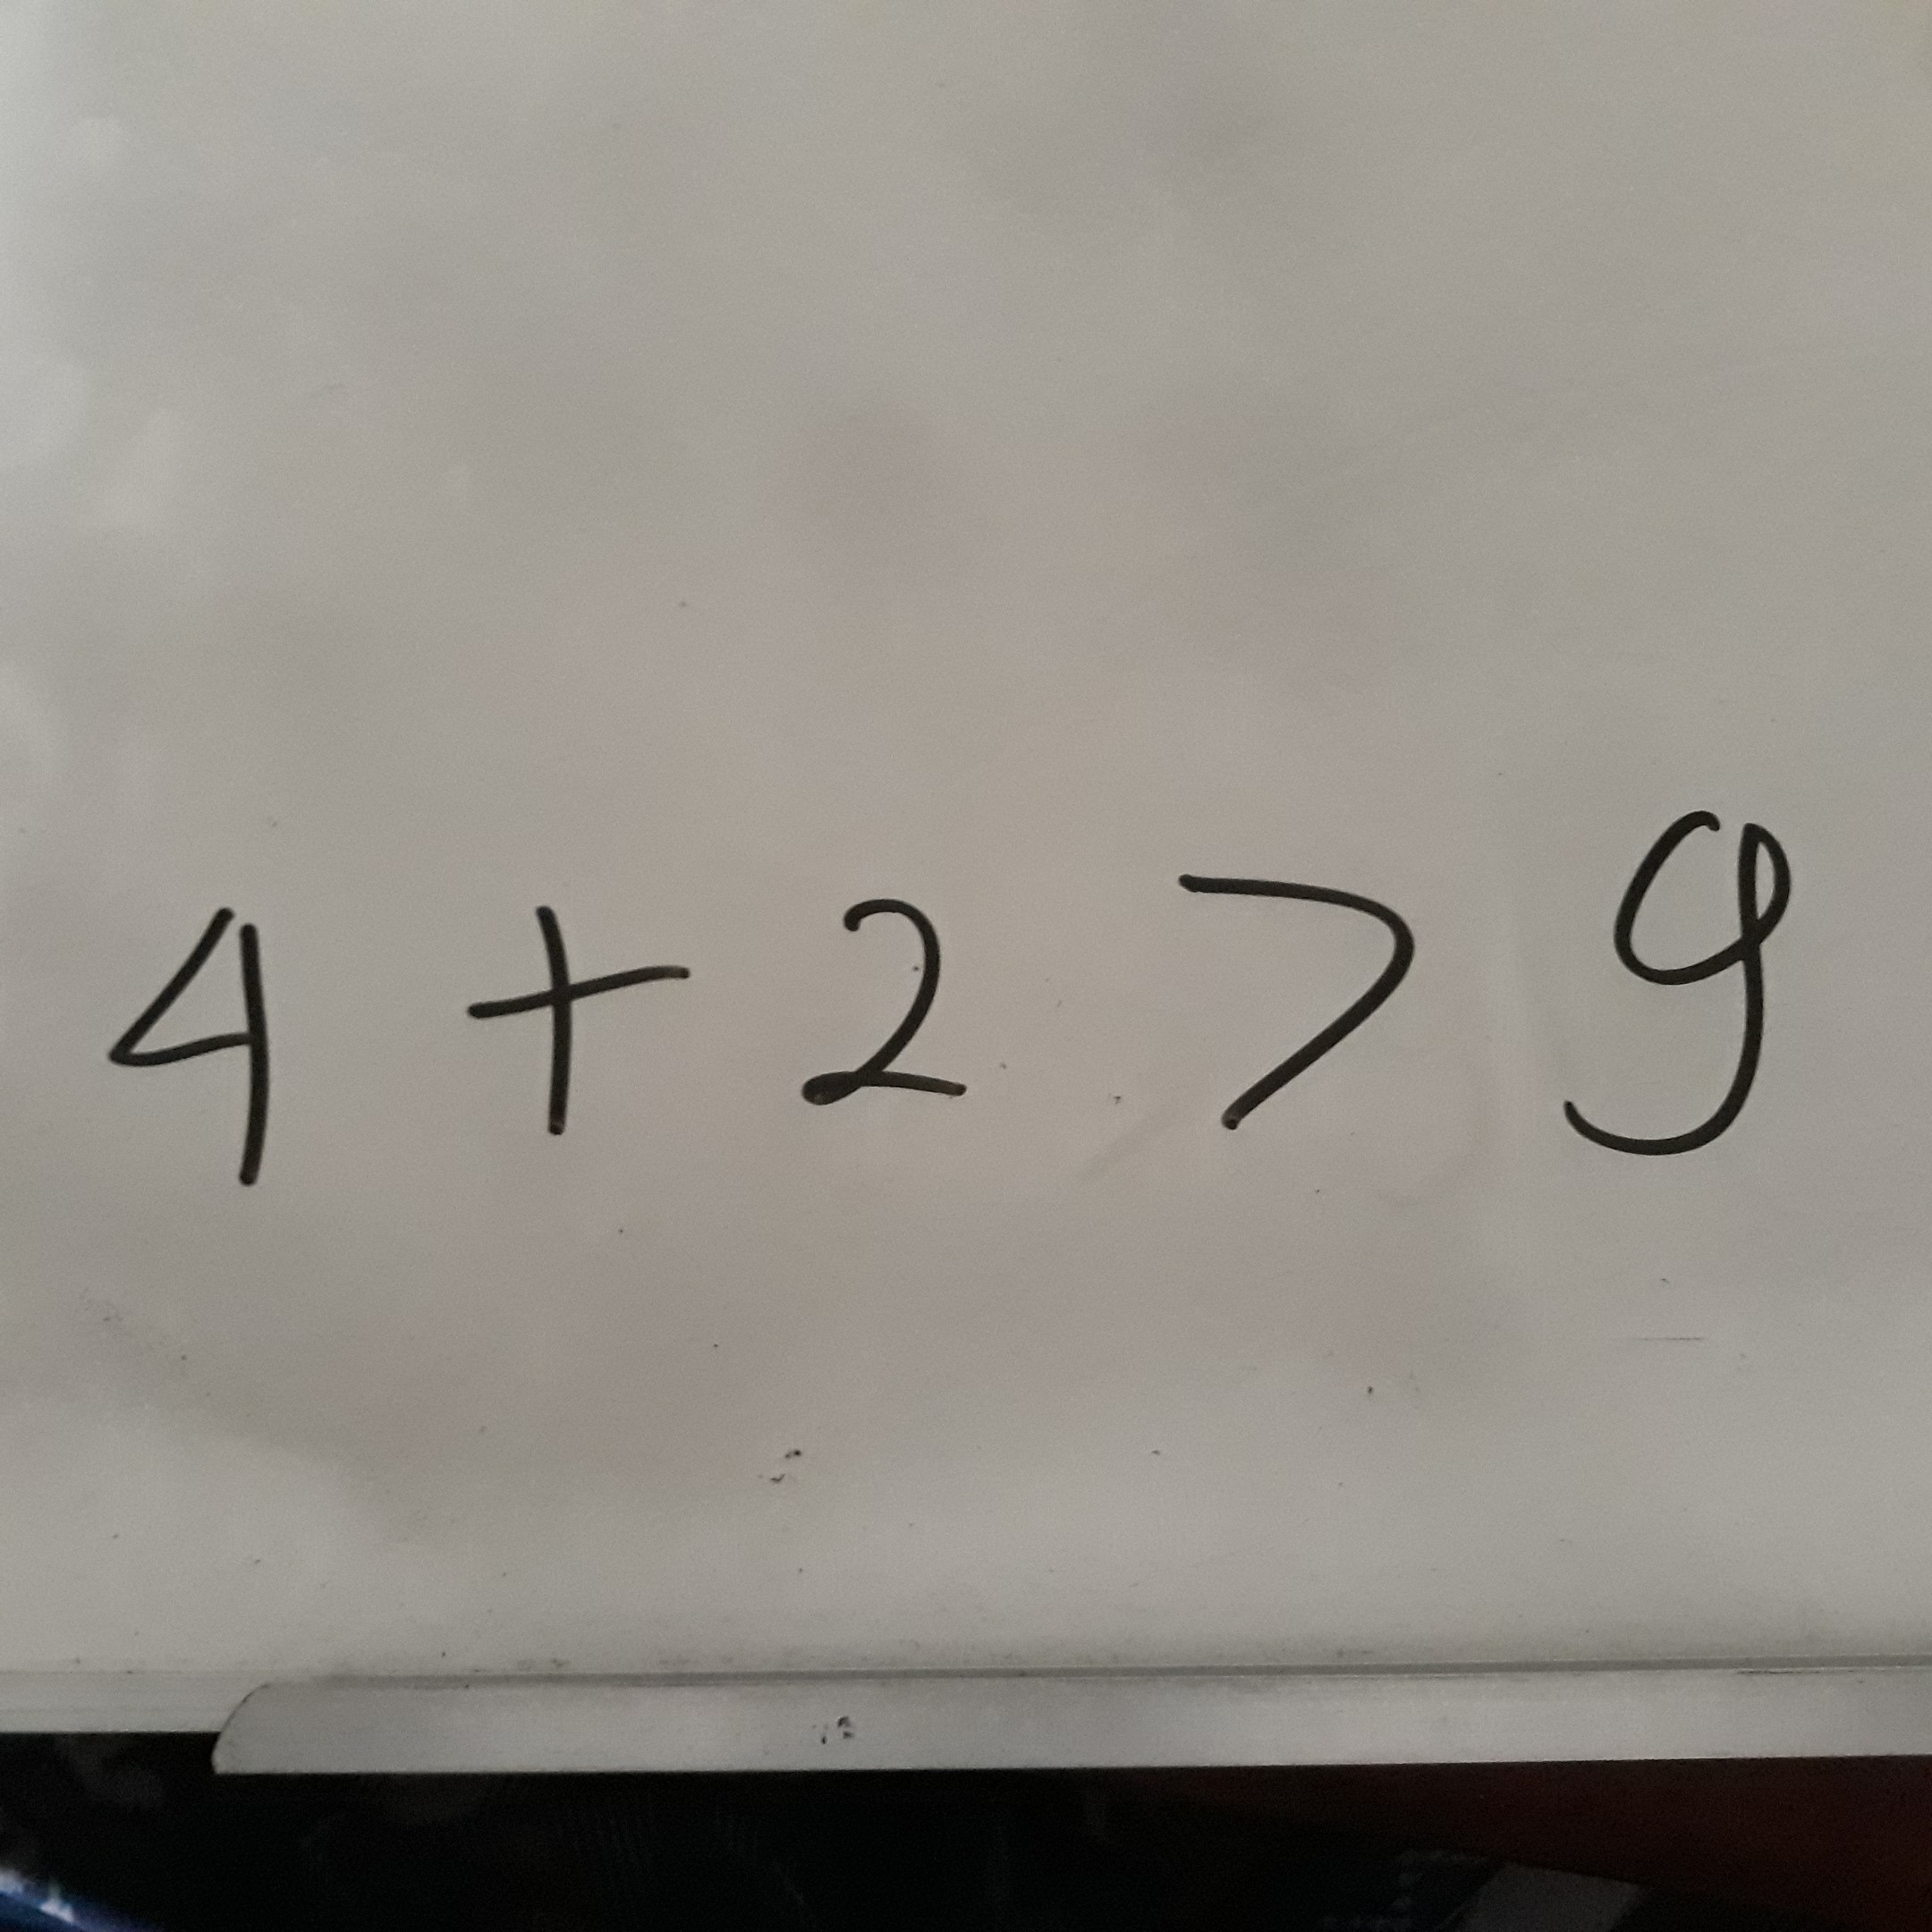morethan: (1164, 837, 1426, 1145)
num2: (765, 871, 1015, 1136)
num4: (99, 884, 313, 1234)
num9: (1545, 774, 1830, 1174)
sum: (447, 890, 698, 1155)
